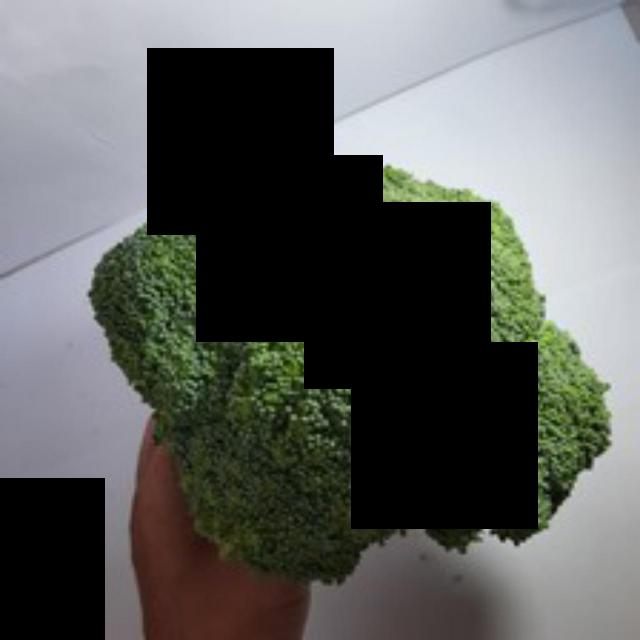broccoli: (91, 142, 627, 593)
